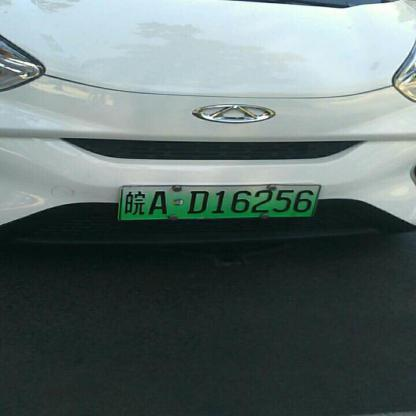lp: (121, 185, 321, 219)
